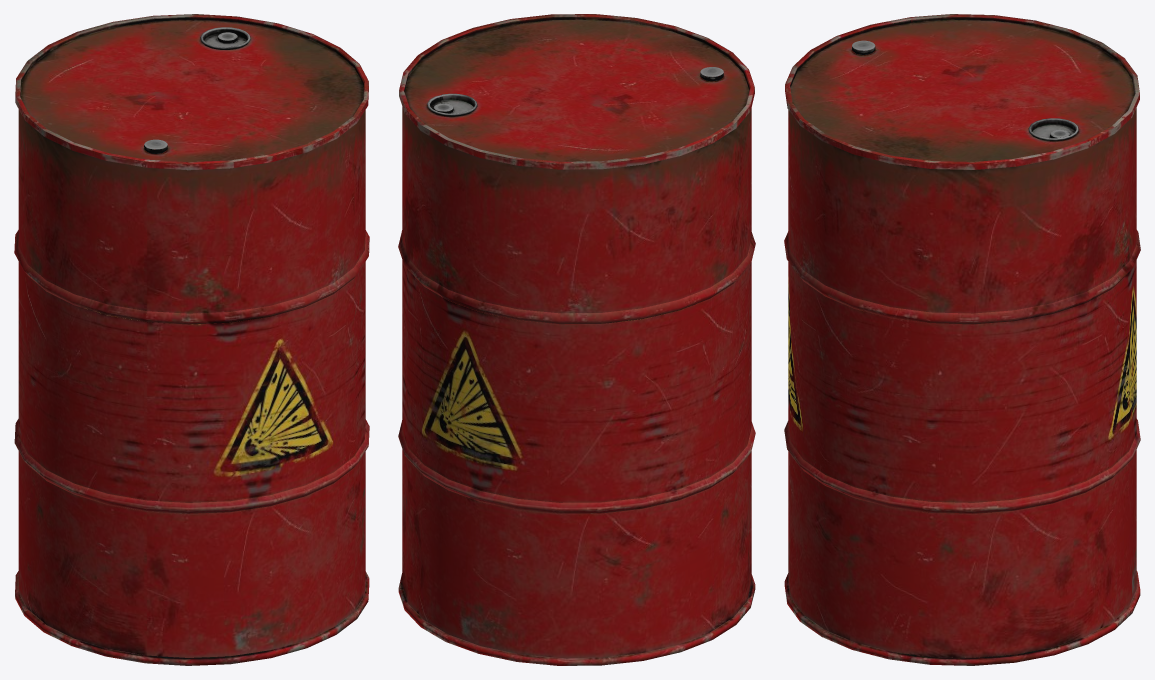
Rendered from Barrel_01.glb.
The picture shows the model from 3 angles, left to right: view 1: azimuth 30°, elevation 25°; view 2: azimuth 150°, elevation 25°; view 3: azimuth 270°, elevation 25°; orthographic projection.
Parts seen in each view (by area): view 1: Barrel_01; view 2: Barrel_01; view 3: Barrel_01.
Part boxes in pixels (box(x1,y1,x2,y2)): Barrel_01: box(14, 14, 369, 665); Barrel_01: box(398, 14, 755, 665); Barrel_01: box(784, 14, 1140, 665).
Bounding box in the file's own units: 0.5638 × 0.8802 × 0.5638.
1 material, 1 textured.
